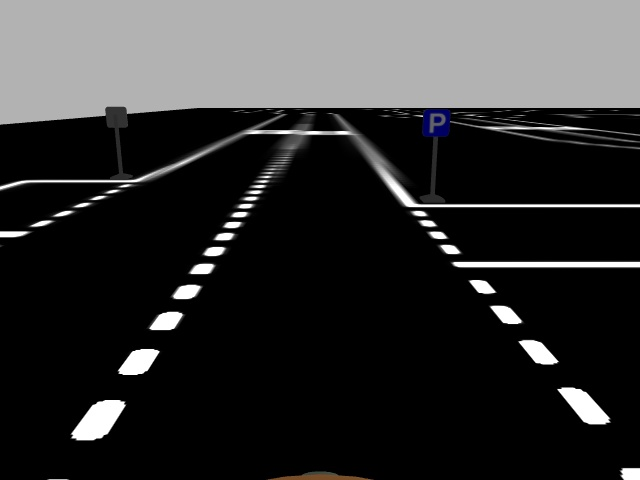parking: (421, 107, 449, 136)
